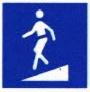passagem disnevelada para peoes com rampa: (1, 0, 90, 88)
